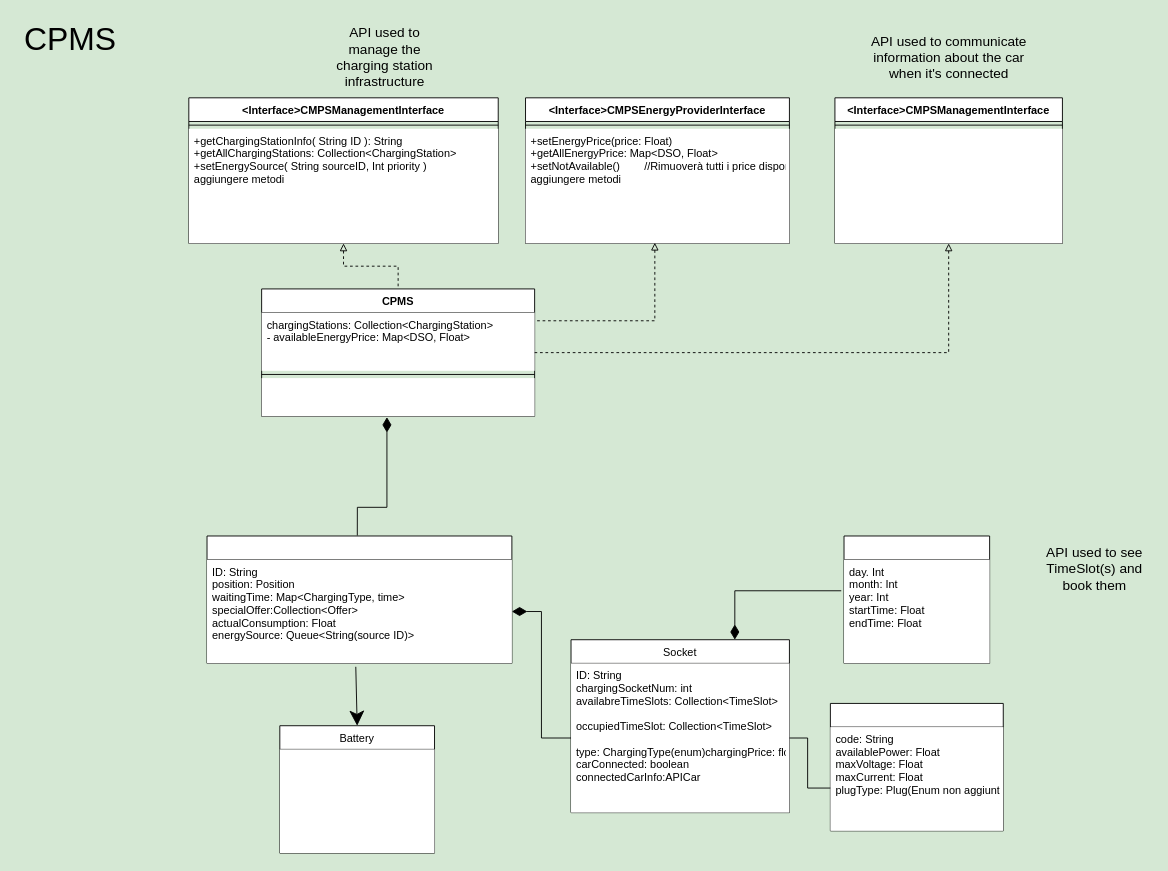
Image size: 1168x871. Some labels were removed from this diagram. The shapes that lost their labels are listed below. From the top down, each one's box as (x1, y1, x2, y2) in pixels, then its label:
(834, 128, 1062, 243): +getChargingStationInfo( ID: String ) : String aggiungere metodi
(261, 378, 534, 416): Ereditati da interfacce
(206, 535, 512, 663): ChargingStation
(843, 535, 990, 663): TimeSlot
(829, 703, 1003, 831): ChargingType (Enum)
(279, 749, 434, 853): ID: String maxStorage: float actualStorage: float
